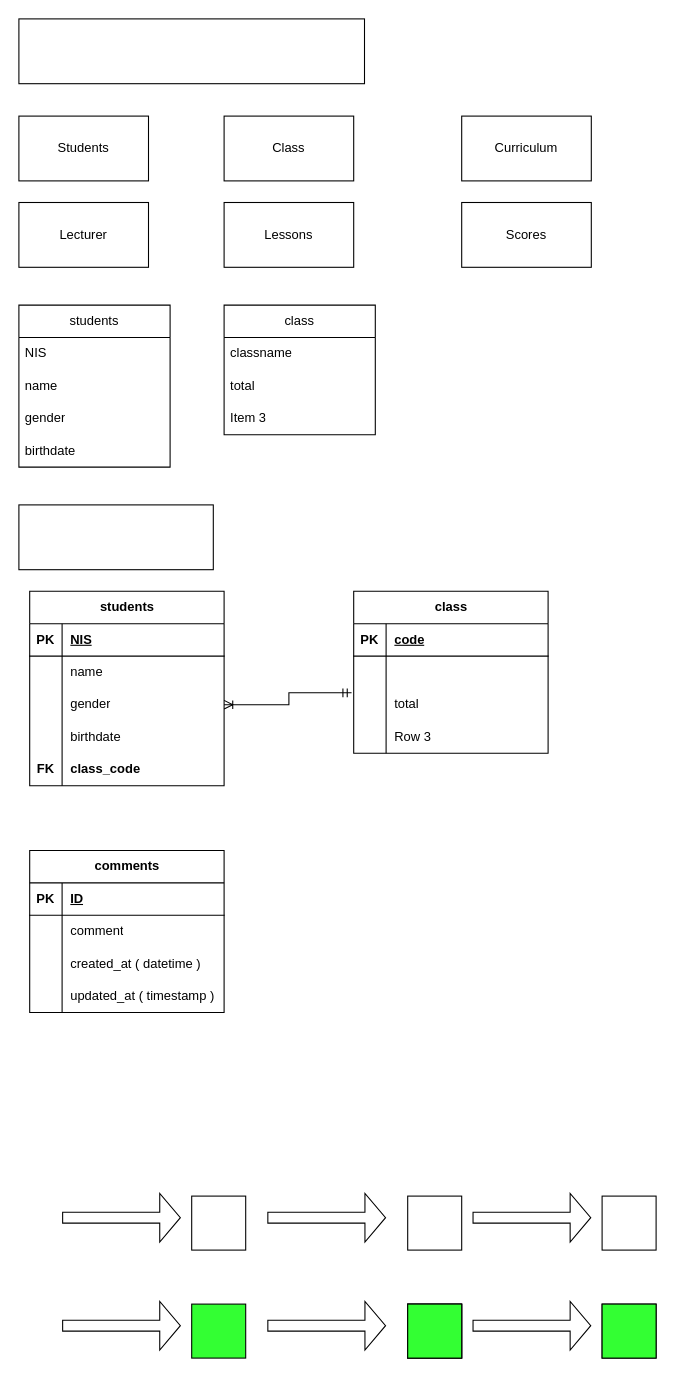
The diagram is 675 pixels wide and 1377 high, and some of its shapes have lost their labels. Each missing label, with the centre of its shape:
"1 student 1 class 1 class many student" belongs at point (115, 537).
"Membangun LMS ( Learning Management System )" belongs at point (191, 51).
